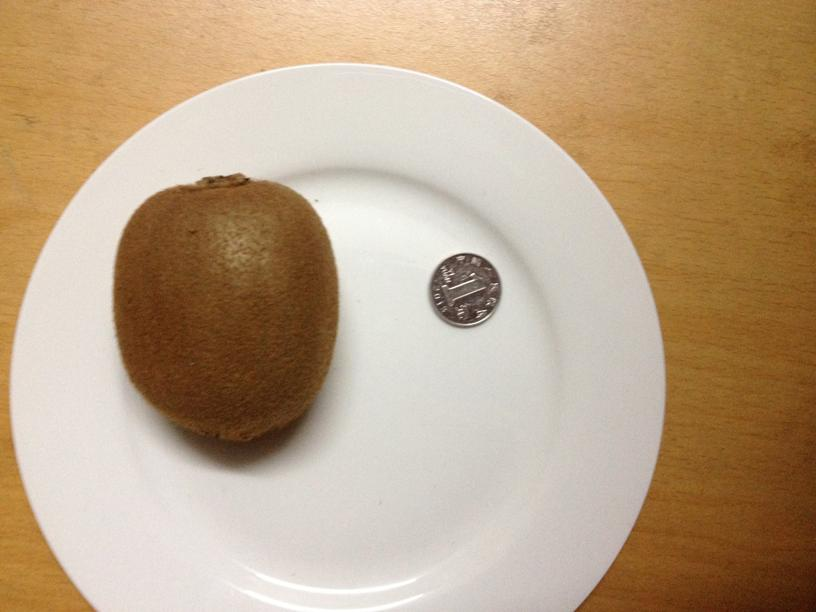coin: (426, 247, 502, 325)
qiwi: (111, 177, 339, 439)
